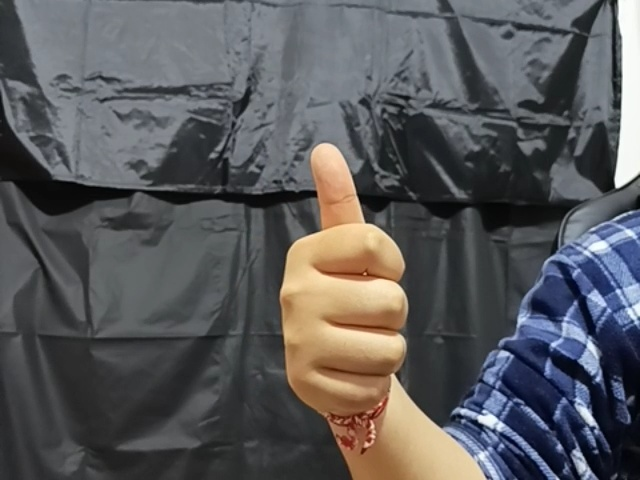A: (273, 141, 412, 413)
